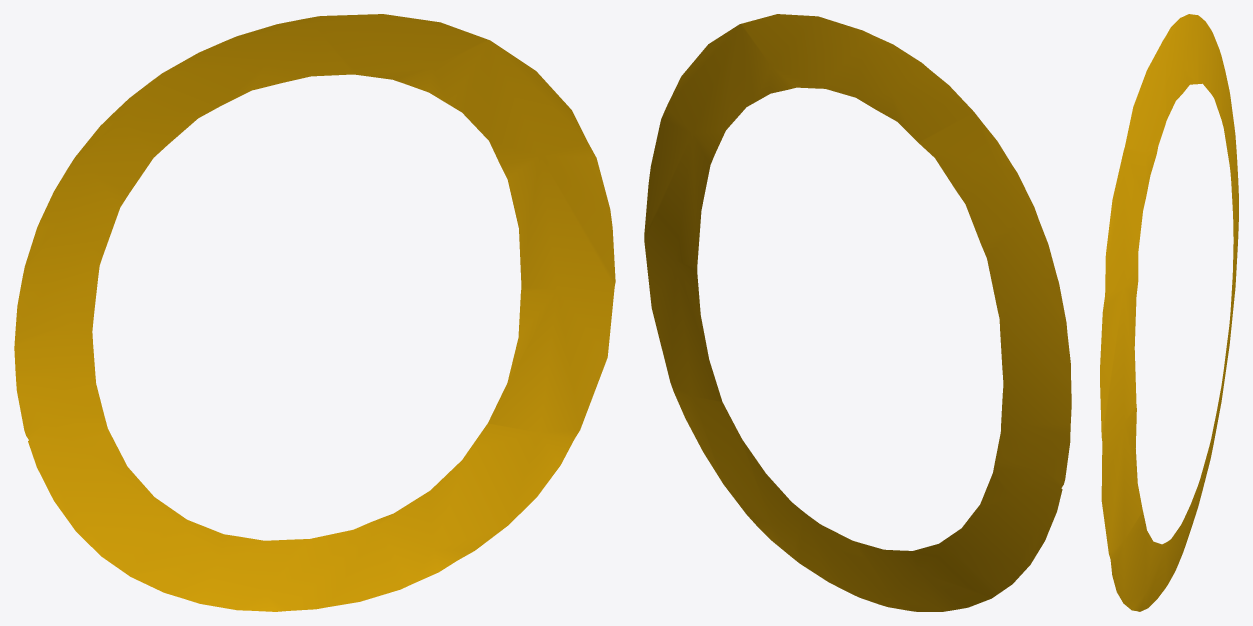
File: original-396.obj
3 renders of one model, left to right at view 1: azimuth 30°, elevation 25°; view 2: azimuth 150°, elevation 25°; view 3: azimuth 270°, elevation 25°, orthographic. The views are drawn at different scales.
Visible parts, largest first — view 1: #ID2253; view 2: #ID2253; view 3: #ID2253.
Part boxes in pixels (<box>): #ID2253: <box>14,14,615,611</box>; #ID2253: <box>644,14,1071,611</box>; #ID2253: <box>1100,14,1238,611</box>.
Size of the model in its own units: 0.0167 by 0.0181 by 0.00419.
